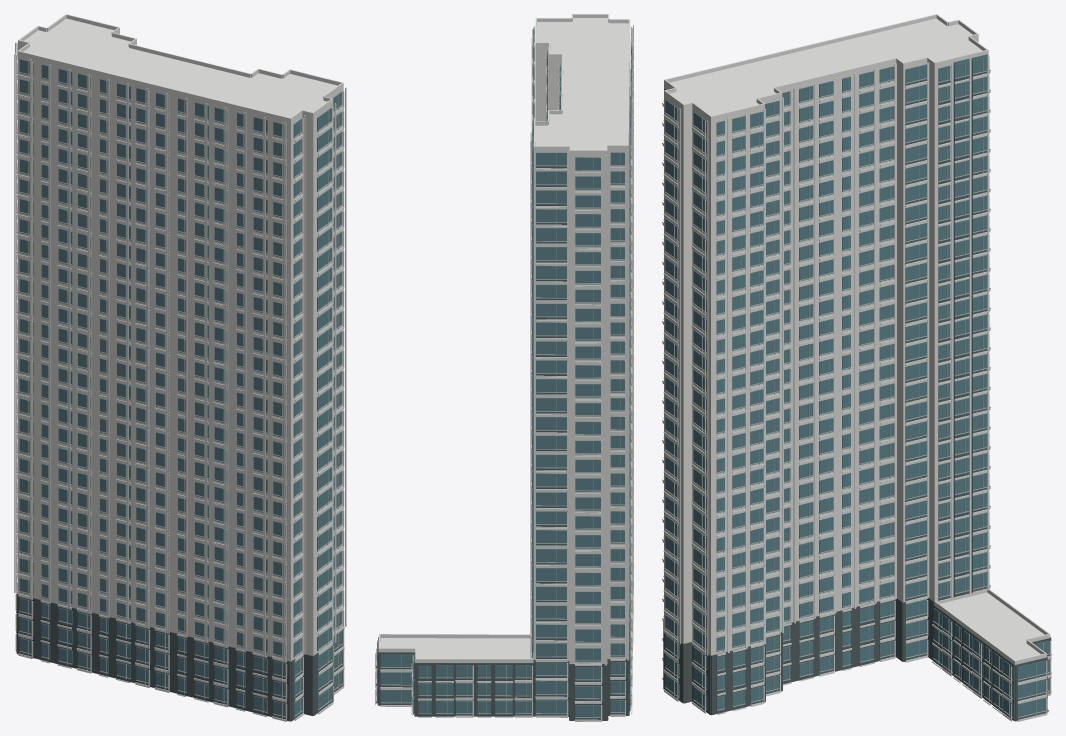
File: bespoke-acro-riverpark-105.glb
The picture shows the model from 3 angles, left to right: view 1: azimuth 30°, elevation 25°; view 2: azimuth 150°, elevation 25°; view 3: azimuth 270°, elevation 25°; orthographic projection. The views are drawn at different scales.
Parts seen in each view (by area): view 1: 105_R00_body, 105_R00_glass, 105_R00_frame, 105_R00_dark; view 2: 105_R00_body, 105_R00_glass, 105_R00_frame, 105_R00_dark; view 3: 105_R00_body, 105_R00_glass, 105_R00_frame, 105_R00_dark.
Part boxes in pixels (x1=…): 105_R00_body: x1=14, y1=14, x2=346, y2=721; 105_R00_glass: x1=19, y1=59, x2=342, y2=717; 105_R00_frame: x1=17, y1=61, x2=342, y2=718; 105_R00_dark: x1=16, y1=583, x2=344, y2=721; 105_R00_body: x1=375, y1=14, x2=633, y2=721; 105_R00_glass: x1=377, y1=26, x2=631, y2=718; 105_R00_frame: x1=376, y1=28, x2=632, y2=719; 105_R00_dark: x1=376, y1=165, x2=629, y2=720; 105_R00_body: x1=662, y1=14, x2=1051, y2=721; 105_R00_glass: x1=664, y1=54, x2=1049, y2=718; 105_R00_frame: x1=663, y1=58, x2=1049, y2=717; 105_R00_dark: x1=663, y1=71, x2=1051, y2=721.
Size of the model in its own units: 41.71 by 105 by 61.99.
